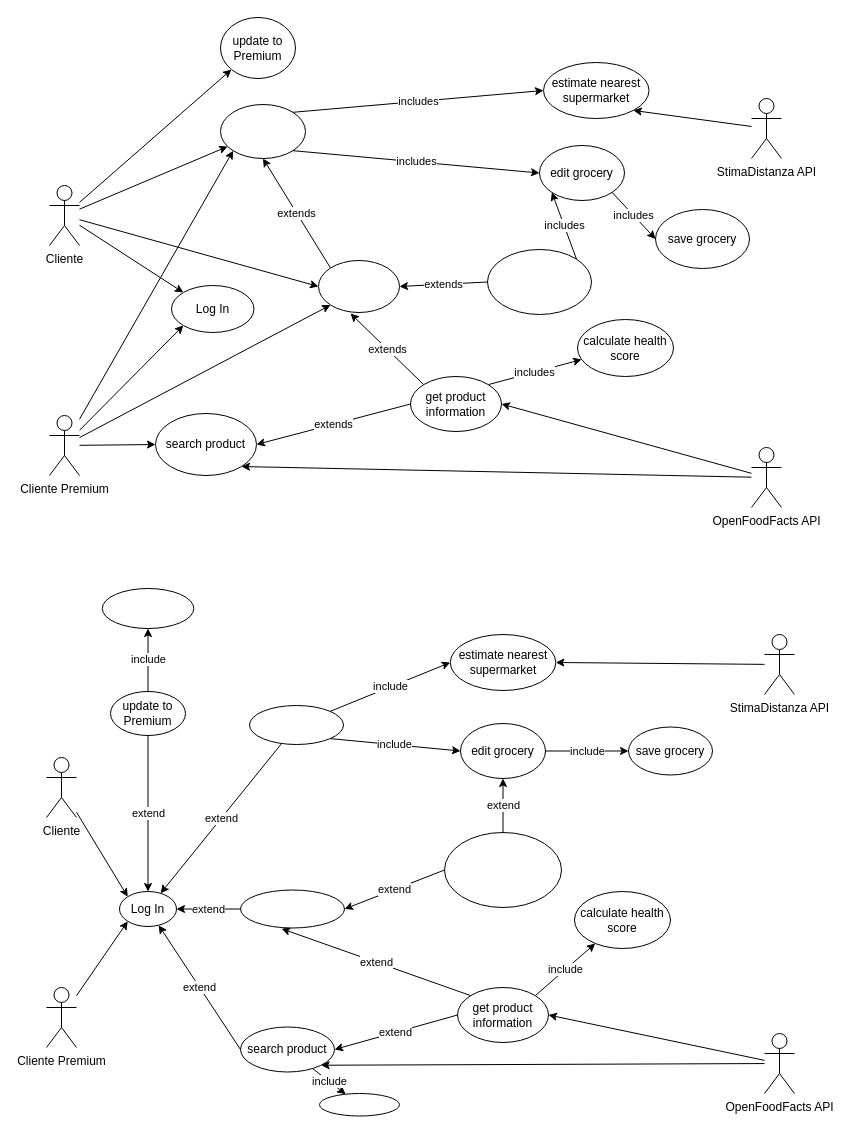
The diagram is 851 pixels wide and 1134 high, and some of its shapes have lost their labels. Each missing label, with the box of its shape:
consult old groceries: (240, 889, 344, 928)
copy old grocery making a new one: (444, 832, 562, 908)
copy old grocery on a new one: (486, 248, 592, 314)
do grocery: (220, 104, 306, 158)
do grocery from scratch: (248, 704, 344, 744)
premium: (318, 1092, 400, 1116)
to be standard user: (101, 588, 194, 628)
view old groceries: (318, 260, 400, 312)
